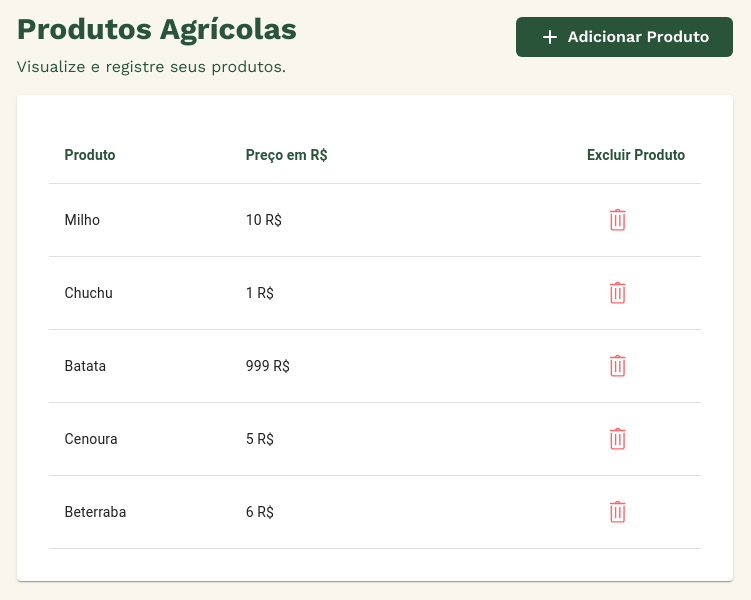
Test: BasicTable › Remove produto ao clicar no botão de excluir
Check: the text "Milho" is shown, box [49,184,230,256]
// Clica no botão de excluir do produto "Milho"
Click the button with test id "delete-product-1".
click(641, 220)  # box [597,200,685,240]
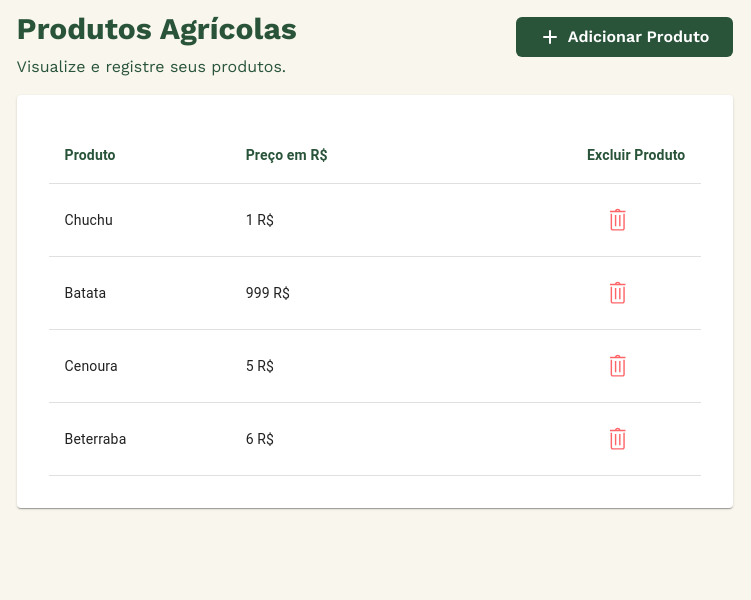
Check: the text "Milho" is gone
